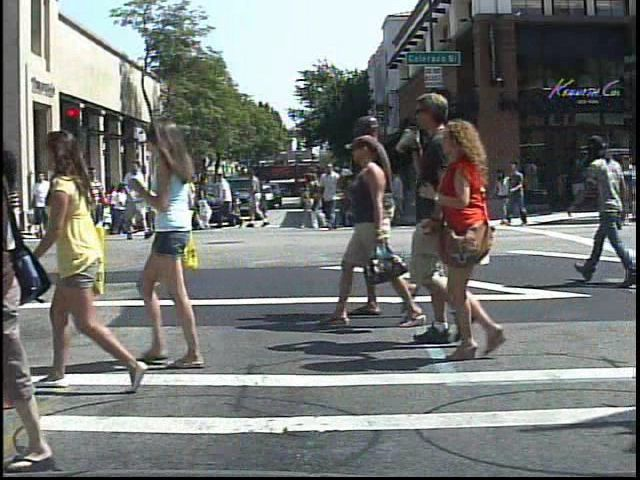person: (1, 105, 90, 473), (30, 129, 152, 390), (378, 86, 491, 350), (130, 111, 236, 377), (427, 121, 539, 364), (121, 160, 151, 242), (95, 181, 115, 221)
